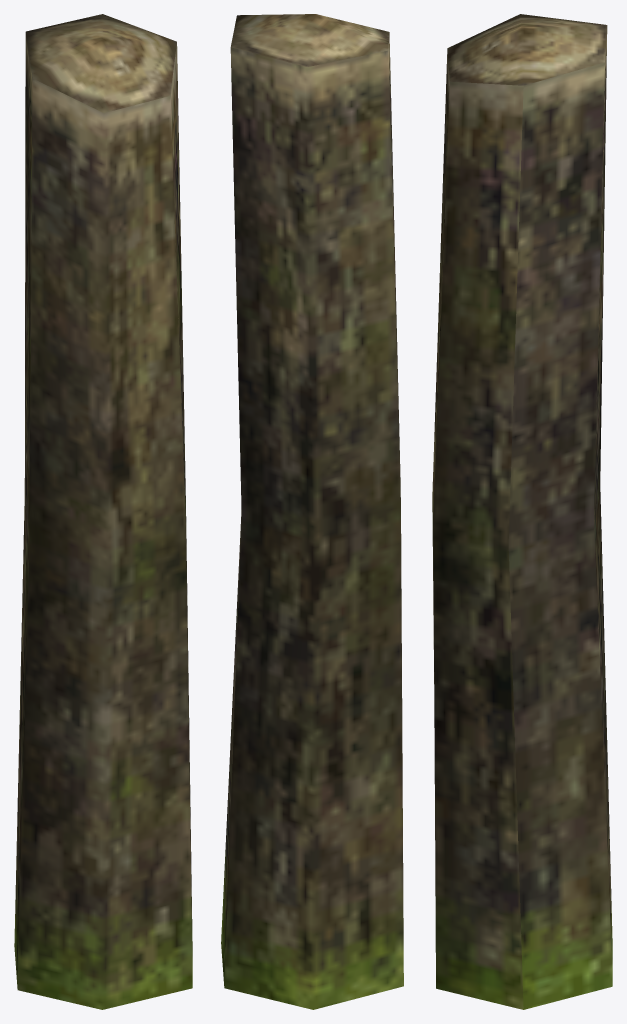
The picture shows the model from 3 angles, left to right: view 1: azimuth 30°, elevation 25°; view 2: azimuth 150°, elevation 25°; view 3: azimuth 270°, elevation 25°; orthographic projection. The views are drawn at different scales.
Parts seen in each view (by area): view 1: OM_20_ma_obj07A; view 2: OM_20_ma_obj07A; view 3: OM_20_ma_obj07A.
Part boxes in pixels (x1,y1,x2,y2): OM_20_ma_obj07A: (14,14,192,1009); OM_20_ma_obj07A: (221,14,403,1009); OM_20_ma_obj07A: (432,14,612,1009).
Bounding box in the file's own units: 0.637 × 3.2 × 0.5582.
1 material, 1 textured.
